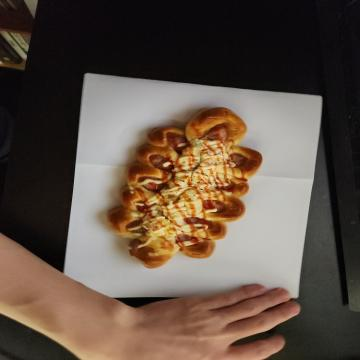pizza_bread: (108, 96, 271, 253)
